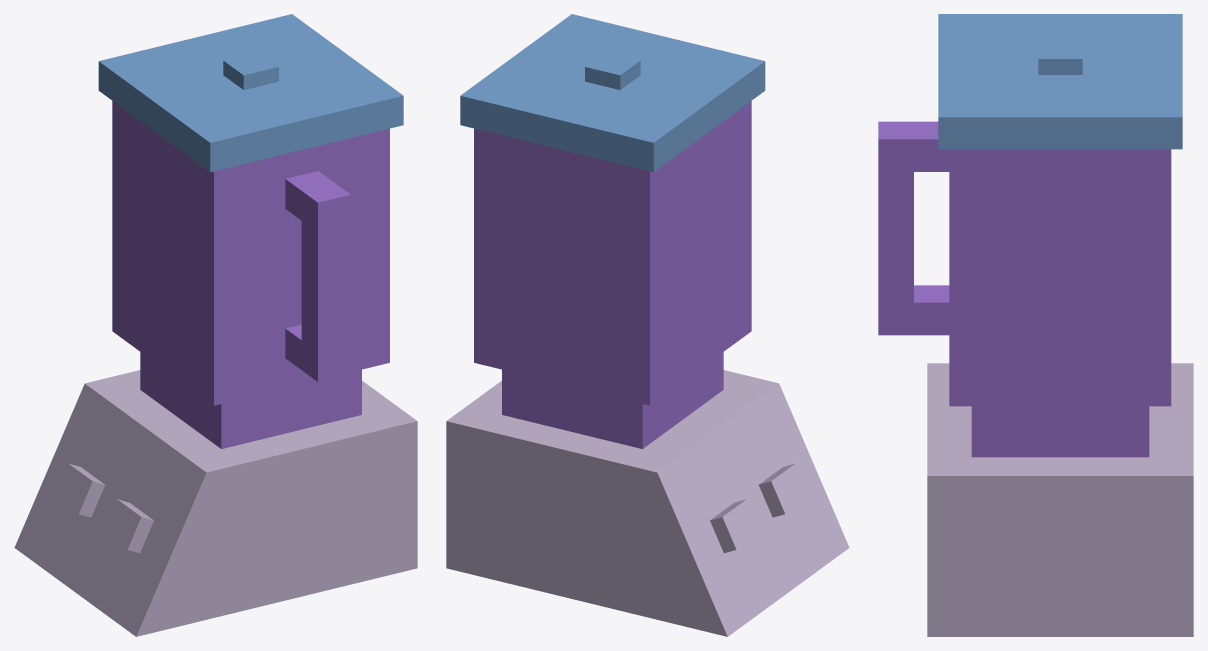
Rendered from blender.fbx.
3 renders of one model, left to right at view 1: azimuth 30°, elevation 25°; view 2: azimuth 150°, elevation 25°; view 3: azimuth 270°, elevation 25°, orthographic. The views are drawn at different scales.
Parts seen in each view (by area): view 1: blenderJair, blender, lid; view 2: blenderJair, blender, lid; view 3: blenderJair, blender, lid.
Boxes of the visible parts, <box> form: blenderJair: <box>112,101,389,448</box>; blender: <box>14,370,417,636</box>; lid: <box>98,14,403,172</box>; blenderJair: <box>474,101,751,448</box>; blender: <box>446,370,849,636</box>; lid: <box>460,14,765,172</box>; blenderJair: <box>878,121,1171,457</box>; blender: <box>927,363,1193,636</box>; lid: <box>938,14,1182,149</box>.
Bounding box in the file's own units: 60 × 99 × 53.25.
